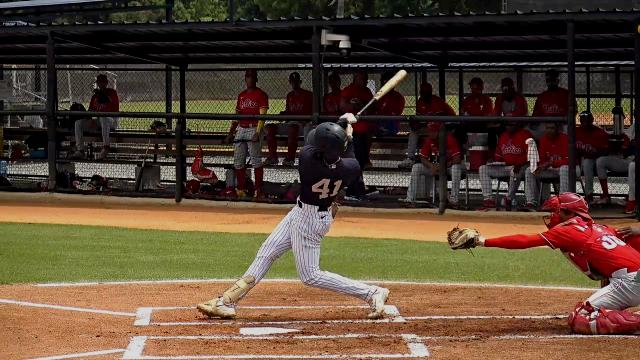bat: (358, 68, 410, 116)
